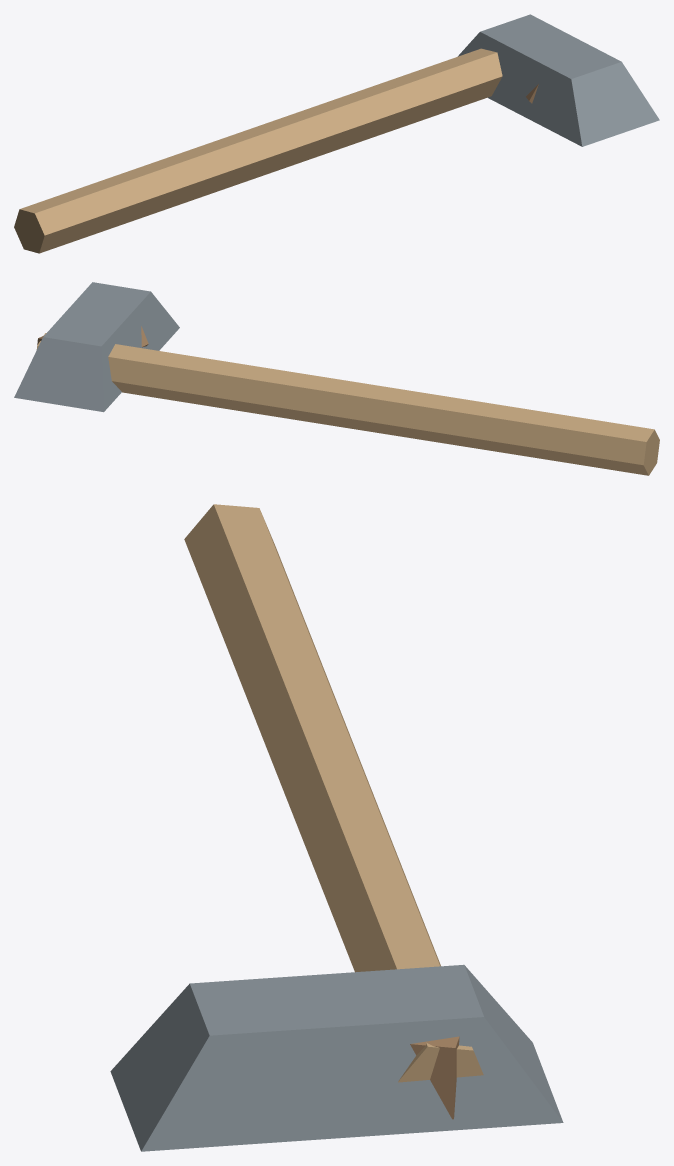
Rendered from item_104_iron_axe_s.glb.
3 views of the same model, one above another, from view 1: azimuth 30°, elevation 25°; view 2: azimuth 150°, elevation 25°; view 3: azimuth 270°, elevation 25° (orthographic). The views are drawn at different scales.
Parts seen in each view (by area): view 1: item_104_iron_axe_s; view 2: item_104_iron_axe_s; view 3: item_104_iron_axe_s.
Part boxes in pixels (bbox=[...]): item_104_iron_axe_s: bbox=[14, 14, 659, 253]; item_104_iron_axe_s: bbox=[14, 282, 659, 475]; item_104_iron_axe_s: bbox=[110, 504, 563, 1151].
Size of the model in its own units: 0.6339 by 0.0594 by 0.2118.
